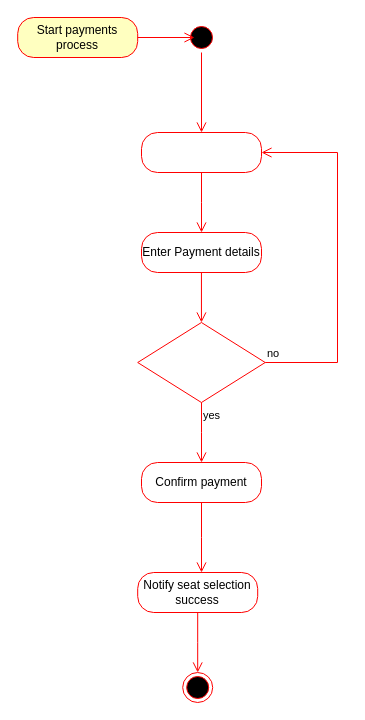
Some shapes in this 365 by 720 pixel diagram are drawn without their labels. The centre of each missing label's shape, as x and y in pixels:
Is correct the payment ?: the point at 201,362
Select Payment method: the point at 201,152
